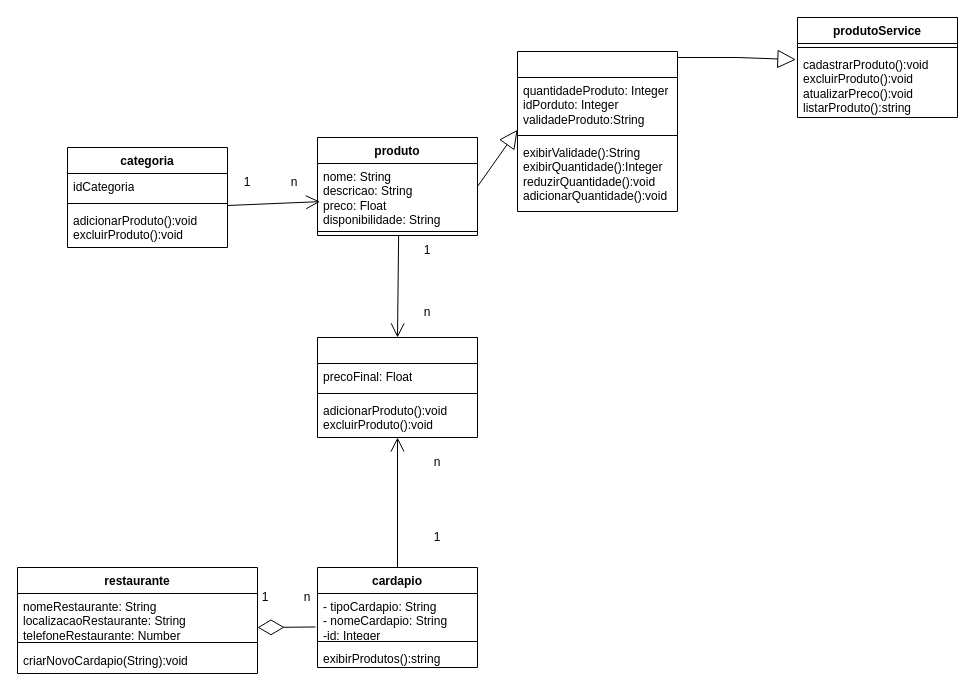
The diagram is 975 pixels wide and 694 high, and some of its shapes have lost their labels. Each missing label, with the box of its shape:
produtoCardapio: (316, 336, 478, 438)
produtoRepository: (516, 50, 678, 212)
